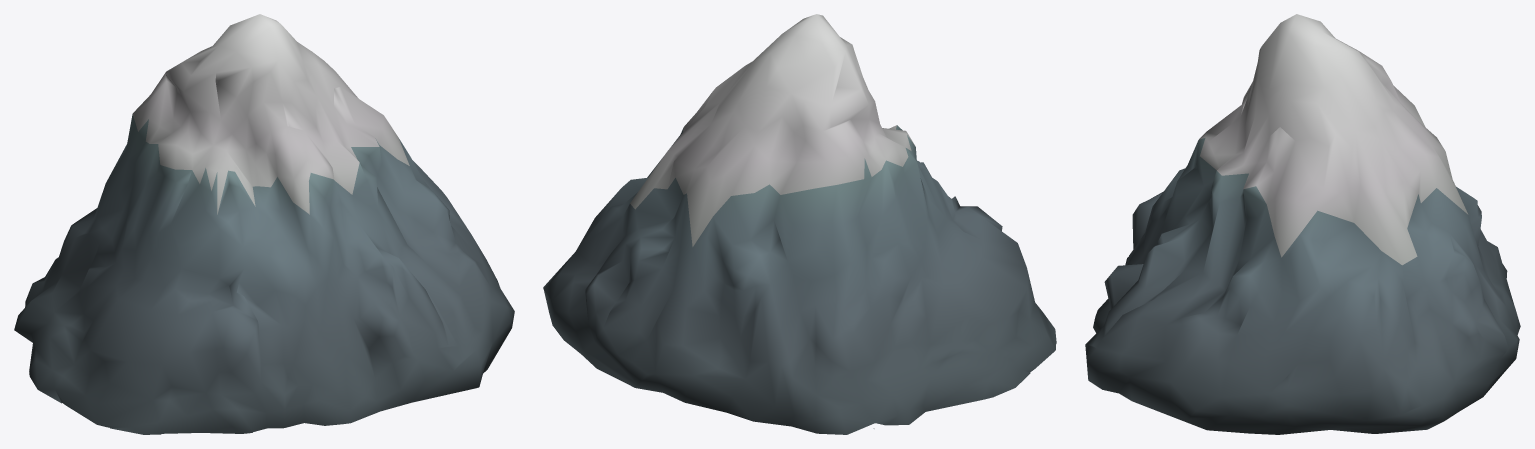
Rendered from MountainSnowy_2.fbx.
3 views of the same model, side by side, from view 1: azimuth 30°, elevation 25°; view 2: azimuth 150°, elevation 25°; view 3: azimuth 270°, elevation 25° (orthographic). The views are drawn at different scales.
Parts seen in each view (by area): view 1: MountainSnowy_2; view 2: MountainSnowy_2; view 3: MountainSnowy_2.
Boxes of the visible parts, bbox=[...] form: MountainSnowy_2: bbox=[14, 14, 514, 434]; MountainSnowy_2: bbox=[543, 14, 1056, 434]; MountainSnowy_2: bbox=[1085, 14, 1520, 434].
Bounding box in the file's own units: 2160 × 1547 × 1884.
